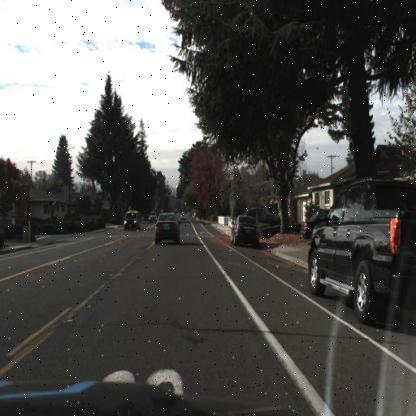car: (308, 177, 415, 328), (153, 212, 182, 244), (231, 212, 259, 244), (301, 208, 328, 232), (123, 209, 143, 233)
